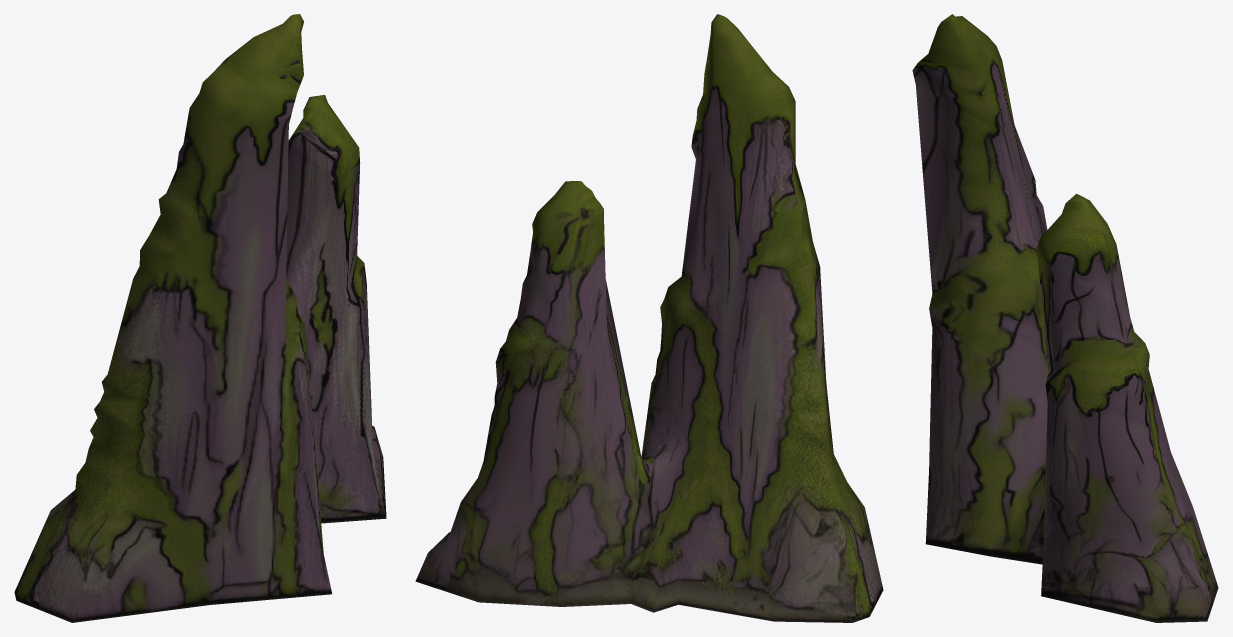
The model's file is Mountain03.glb.
The picture shows the model from 3 angles, left to right: view 1: azimuth 30°, elevation 25°; view 2: azimuth 150°, elevation 25°; view 3: azimuth 270°, elevation 25°; orthographic projection. The views are drawn at different scales.
Visible parts, largest first — view 1: Mountain03; view 2: Mountain03; view 3: Mountain03.
Part boxes in pixels (bbox=[...]): Mountain03: bbox=[14, 14, 386, 622]; Mountain03: bbox=[415, 14, 883, 622]; Mountain03: bbox=[912, 14, 1218, 622].
Size of the model in its own units: 10.26 by 13.3 by 7.12.
1 material, 1 textured.
